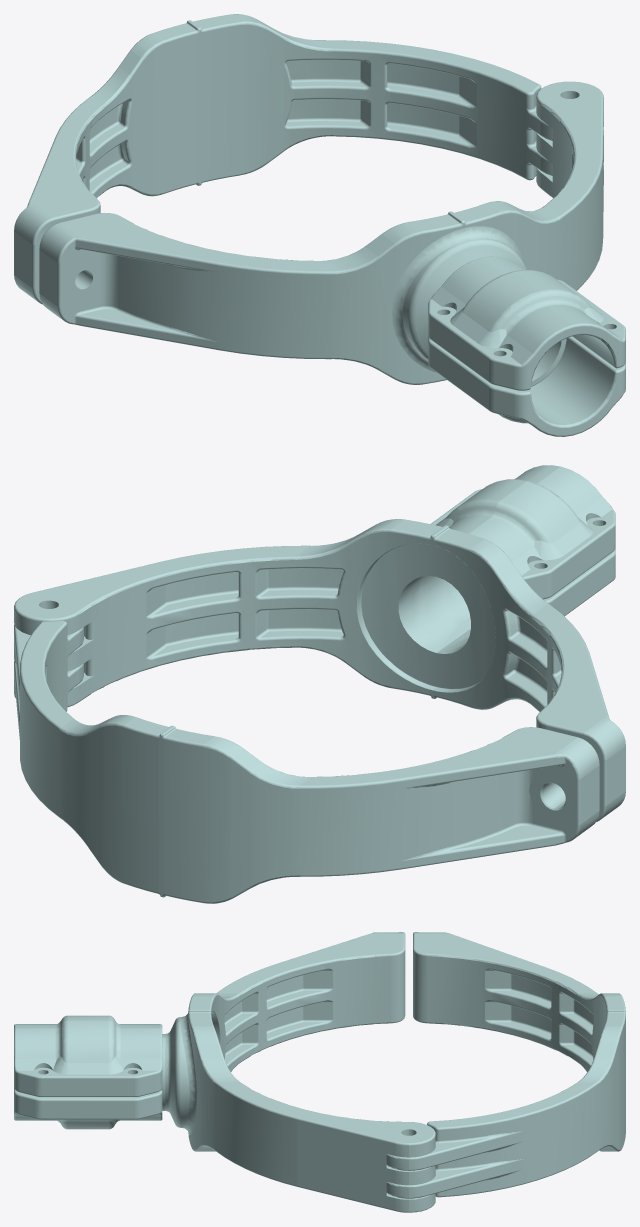
3 views of the same model, one above another, from view 1: azimuth 30°, elevation 25°; view 2: azimuth 150°, elevation 25°; view 3: azimuth 270°, elevation 25° (orthographic). The views are drawn at different scales.
Size of the model in its own units: 271 by 72.54 by 321.
